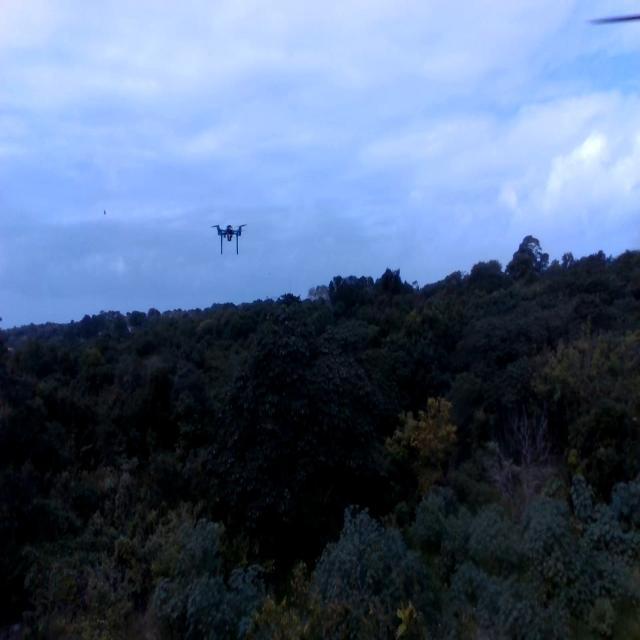-uav-: (208, 212, 250, 260)
